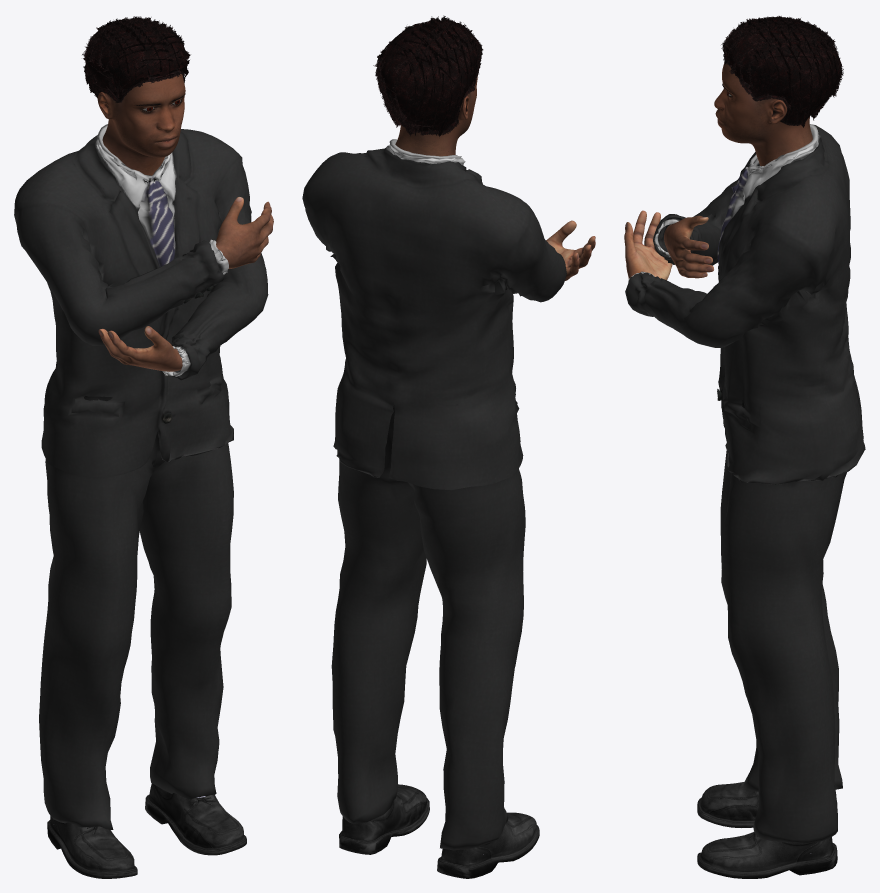
File: adult-man.glb
3 views of the same model, side by side, from view 1: azimuth 30°, elevation 25°; view 2: azimuth 150°, elevation 25°; view 3: azimuth 270°, elevation 25° (orthographic).
Parts seen in each view (by area): view 1: male_elegantsuit01, Jordan | anatomical body, shoes04, afro01; view 2: male_elegantsuit01, afro01, shoes04, Jordan | anatomical body; view 3: male_elegantsuit01, afro01, Jordan | anatomical body, shoes04.
Part boxes in pixels (x1,y1,x2,y2): male_elegantsuit01: (14, 124, 268, 829); Jordan | anatomical body: (97, 74, 273, 371); shoes04: (47, 783, 246, 878); afro01: (82, 16, 190, 102); male_elegantsuit01: (302, 139, 566, 850); afro01: (373, 15, 483, 136); shoes04: (339, 784, 539, 878); Jordan | anatomical body: (395, 75, 595, 280); male_elegantsuit01: (625, 124, 865, 843); afro01: (721, 16, 843, 127); Jordan | anatomical body: (624, 62, 812, 280); shoes04: (697, 782, 837, 878).
Bounding box in the file's own units: 0.5252 × 1.85 × 0.4925.
9 materials, 9 textured.
